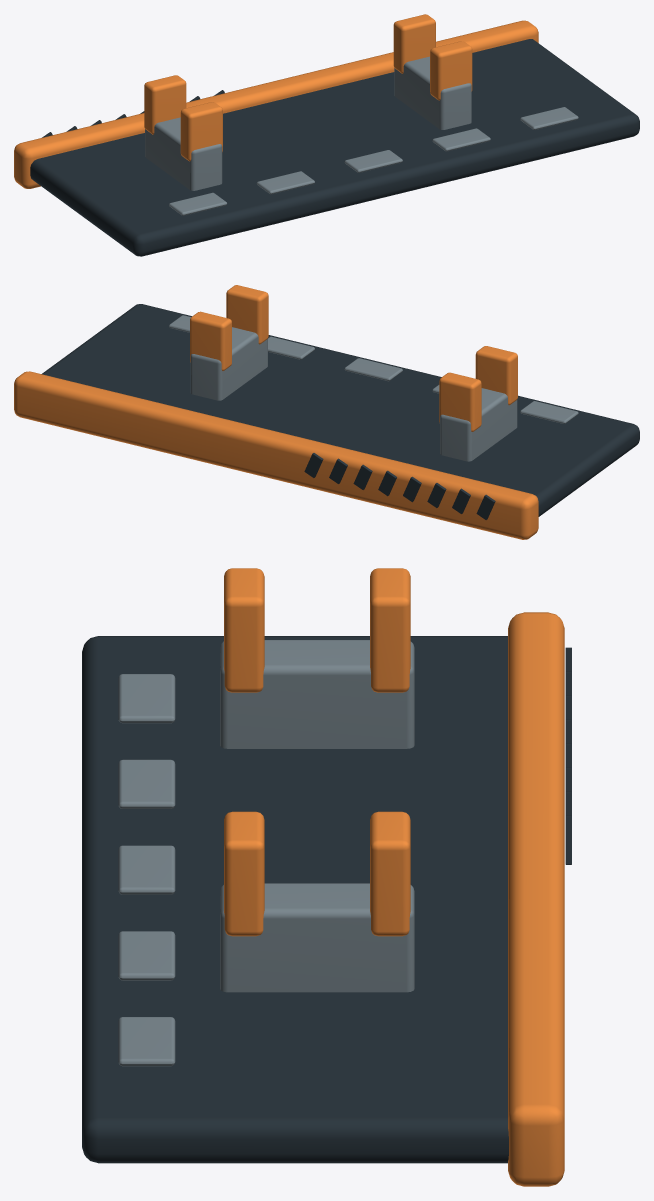
The model's file is SM_Dock_Weapon_Tray.fbx.
The picture shows the model from 3 angles, top to bottom: view 1: azimuth 30°, elevation 25°; view 2: azimuth 150°, elevation 25°; view 3: azimuth 270°, elevation 25°; orthographic projection. The views are drawn at different scales.
Parts seen in each view (by area): view 1: SM_Dock_Weapon_Tray; view 2: SM_Dock_Weapon_Tray; view 3: SM_Dock_Weapon_Tray.
Part boxes in pixels (x1,y1,x2,y2): SM_Dock_Weapon_Tray: (14, 14, 639, 256); SM_Dock_Weapon_Tray: (14, 285, 639, 539); SM_Dock_Weapon_Tray: (82, 568, 571, 1186).
Bounding box in the file's own units: 147 × 60.4 × 29.
